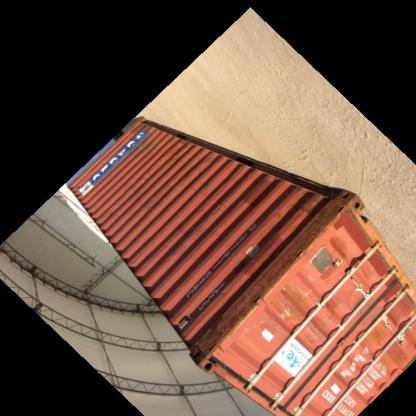Damage: (272, 204, 346, 285), (199, 289, 257, 360), (161, 142, 189, 168), (200, 201, 224, 228), (107, 196, 123, 224), (160, 250, 178, 272), (140, 168, 154, 192)
